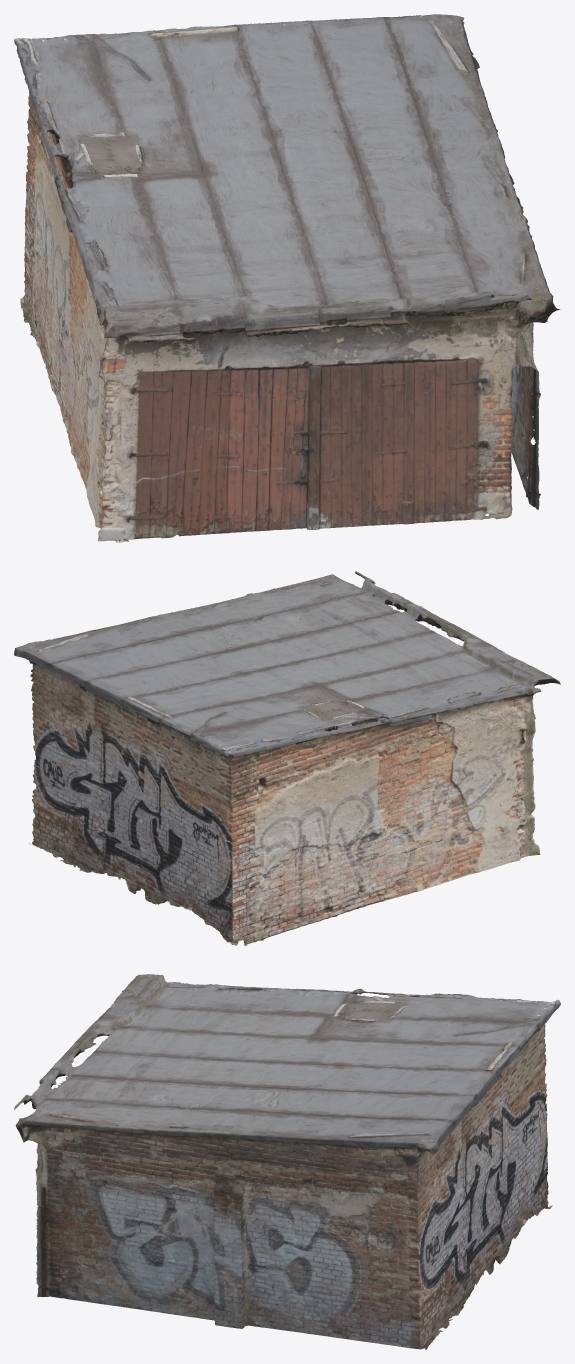
The model's file is old_garage.glb.
3 renders of one model, top to bottom at view 1: azimuth 30°, elevation 25°; view 2: azimuth 150°, elevation 25°; view 3: azimuth 270°, elevation 25°, orthographic. The views are drawn at different scales.
Parts seen in each view (by area): view 1: square-garage; view 2: square-garage; view 3: square-garage.
Part boxes in pixels (x1=…): square-garage: x1=14, y1=14, x2=560, y2=542; square-garage: x1=14, y1=571, x2=560, y2=945; square-garage: x1=14, y1=974, x2=560, y2=1349.
Bounding box in the file's own units: 14.41 × 7.07 × 15.77.
Materials: 2 (2 with a texture image).
